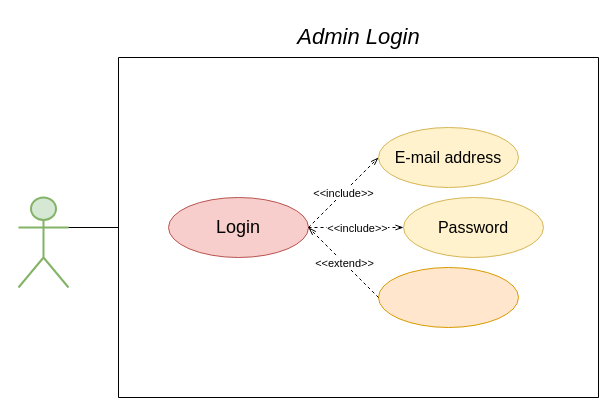
Image size: 616x415. Some labels were removed from this diagram. The shapes that lost their labels are listed below. From the top down, each one's centre as x and y in pixels, then its label:
point (43, 242): Admin
point (448, 297): Reset My Password
